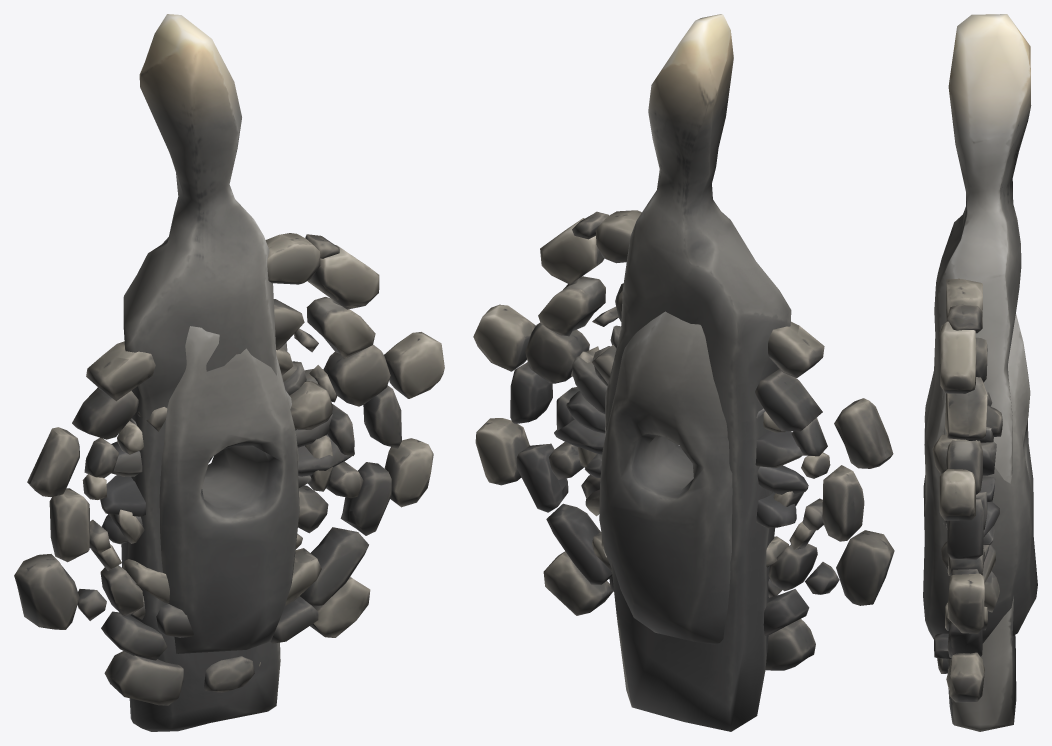
File: PR_RockPilarsNew_GLTFgltf.gltf
3 renders of one model, left to right at view 1: azimuth 30°, elevation 25°; view 2: azimuth 150°, elevation 25°; view 3: azimuth 270°, elevation 25°, orthographic. The views are drawn at different scales.
Parts seen in each view (by area): view 1: PR_RockPilarSpiral, PR_RockPilarVertical_v02, PR_RockPilarVertical_v01, PR_RockPilarCircular; view 2: PR_RockPilarVertical_v02, PR_RockPilarSpiral, PR_RockPilarVertical_v01, PR_RockPilarCircular; view 3: PR_RockPilarVertical_v02, PR_RockPilarSpiral, PR_RockPilarVertical_v01, PR_RockPilarCircular.
Part boxes in pixels (bbox=[...]): PR_RockPilarSpiral: bbox=[14, 233, 444, 705]; PR_RockPilarVertical_v02: bbox=[121, 14, 298, 731]; PR_RockPilarVertical_v01: bbox=[159, 326, 299, 653]; PR_RockPilarCircular: bbox=[100, 342, 354, 544]; PR_RockPilarVertical_v02: bbox=[605, 14, 791, 731]; PR_RockPilarSpiral: bbox=[473, 210, 894, 670]; PR_RockPilarVertical_v01: bbox=[599, 311, 732, 644]; PR_RockPilarCircular: bbox=[554, 325, 808, 557]; PR_RockPilarVertical_v02: bbox=[934, 14, 1031, 731]; PR_RockPilarSpiral: bbox=[932, 278, 1002, 702]; PR_RockPilarVertical_v01: bbox=[923, 314, 1037, 643]; PR_RockPilarCircular: bbox=[943, 392, 999, 612].
Bounding box in the file's own units: 7.28 × 11.63 × 1.78.
1 material, 1 textured.
